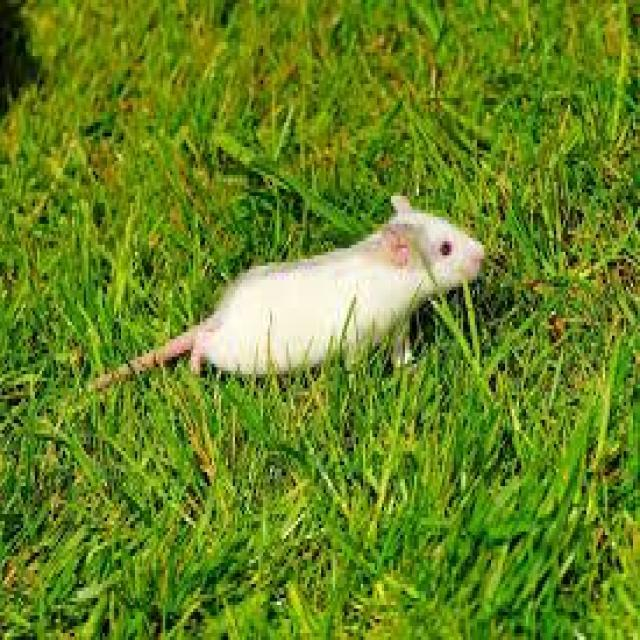Rat: (121, 154, 507, 388)
